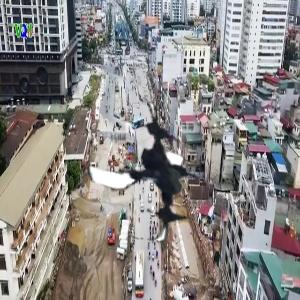drone: (81, 103, 220, 242)
